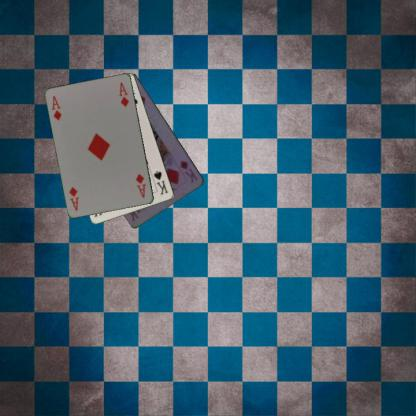Ad: (134, 171, 148, 199), (49, 94, 63, 122)
Kd: (178, 158, 199, 184)
Ks: (152, 168, 170, 197)
